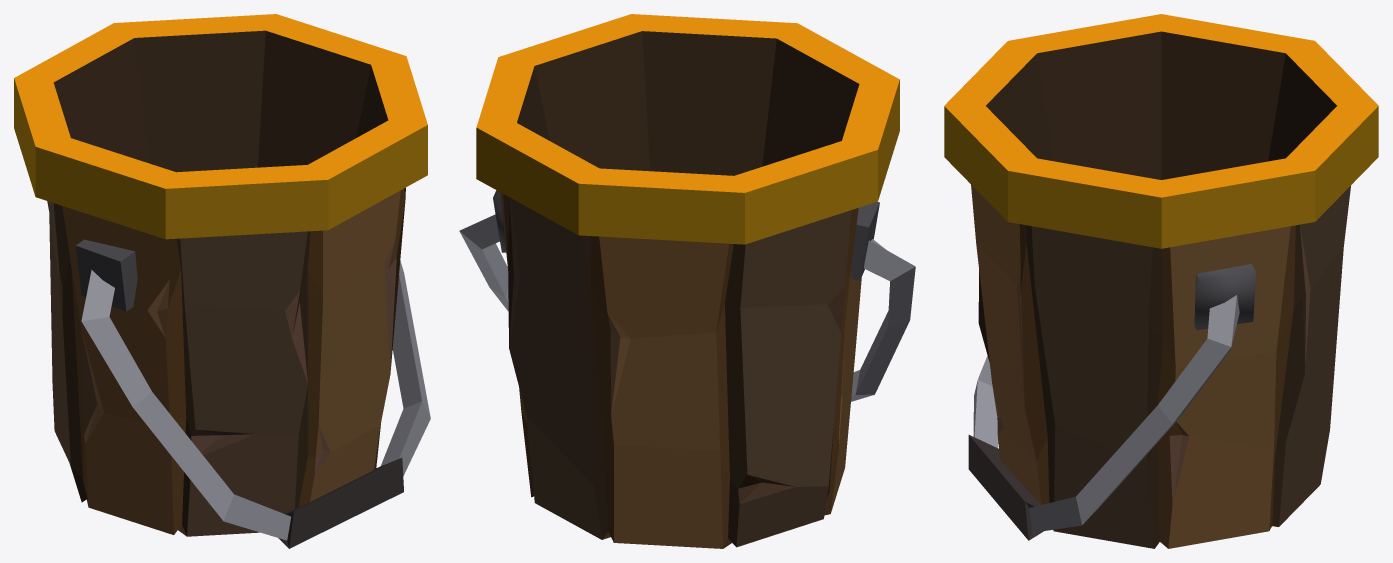
File: Bucket_01.glb
3 views of the same model, side by side, from view 1: azimuth 30°, elevation 25°; view 2: azimuth 150°, elevation 25°; view 3: azimuth 270°, elevation 25° (orthographic). The views are drawn at different scales.
Visible parts, largest first — view 1: Bucket_01; view 2: Bucket_01; view 3: Bucket_01.
Part boxes in pixels (left/top/right/bottom): Bucket_01: left=14, top=14, right=430, bottom=548; Bucket_01: left=459, top=14, right=915, bottom=548; Bucket_01: left=944, top=14, right=1378, bottom=548.
Size of what is drawn, in the model's own units: 0.4615 by 0.437 by 0.4568.
1 material, 1 textured.
